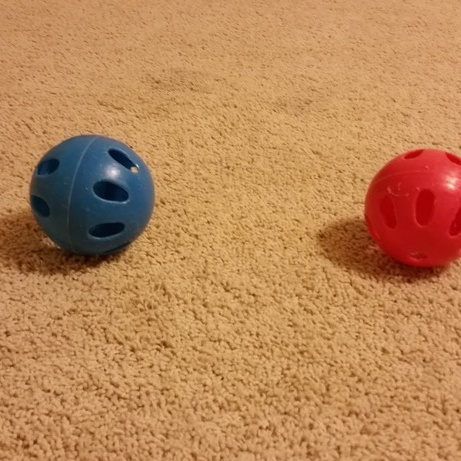blueball: (26, 129, 161, 264)
redball: (359, 142, 461, 273)
